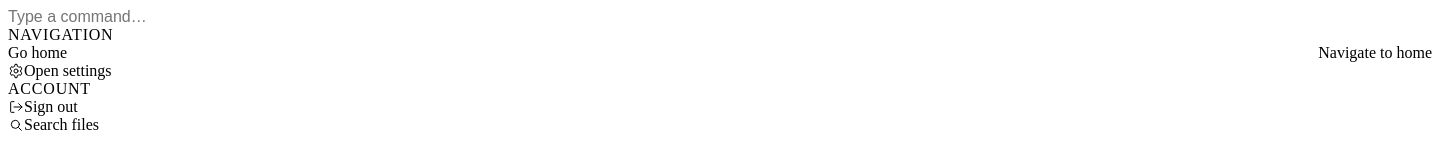
AppCommandPalette › filters commands by label substring
Type "home" into the dropdown with class "app-command-palette__input" at (720, 17), box [8,8,1432,26]
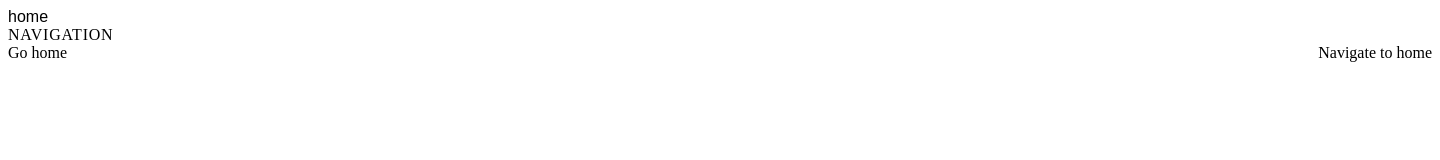
Expected: the text with class "app-command-palette__label" reads "Go home", [8,44,67,61]
Result: the number of options with class "app-command-palette__item" is 1 at [8,44,1432,62]
